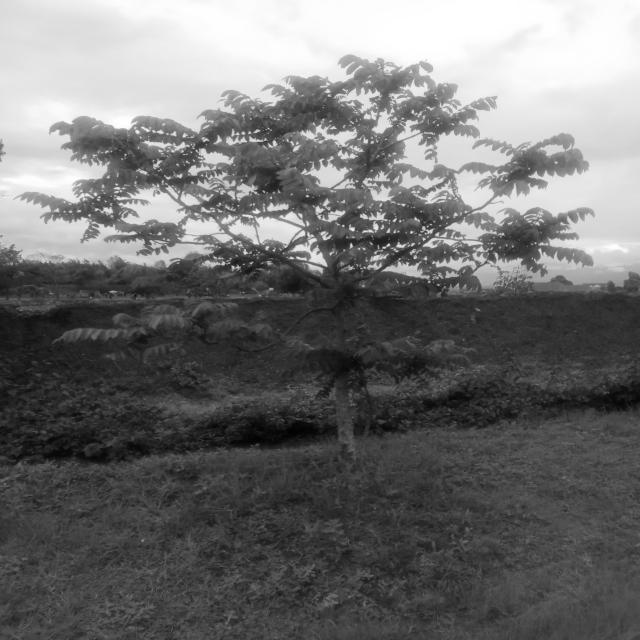Polyscias Kikuyensis: (20, 53, 617, 471)
